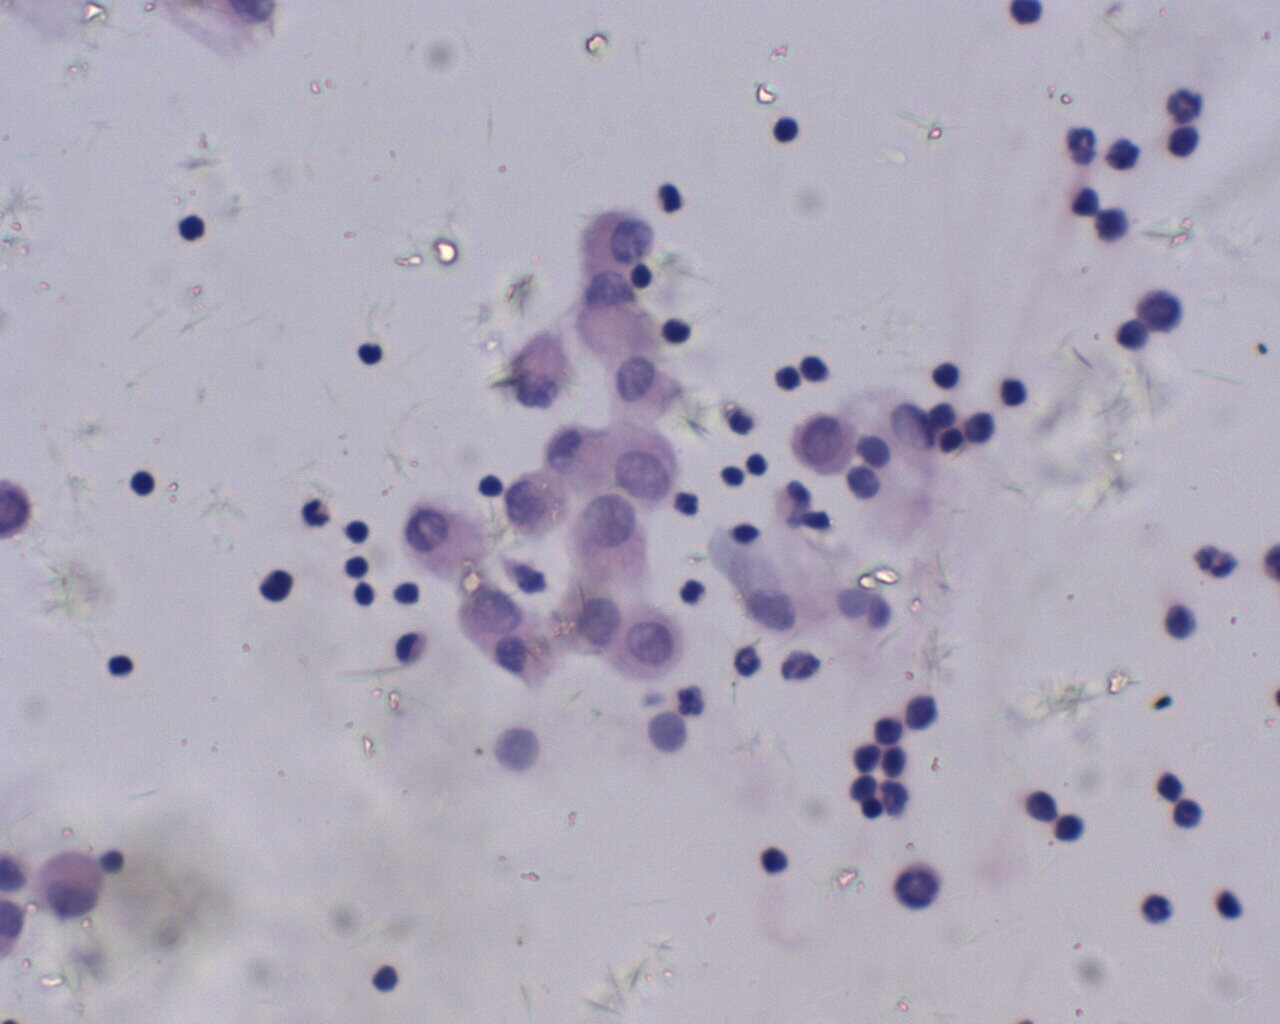ab: (578, 206, 664, 274), (785, 409, 860, 478)
lymph: (929, 356, 964, 392), (365, 960, 400, 996), (176, 212, 210, 245), (101, 652, 139, 680), (755, 847, 792, 876), (772, 115, 804, 145), (127, 467, 159, 496), (354, 338, 387, 366)
meso: (607, 599, 690, 683), (400, 503, 489, 578), (36, 848, 104, 923)
neutro: (1164, 85, 1206, 125), (1137, 889, 1173, 930), (727, 642, 766, 678), (301, 497, 331, 528)
